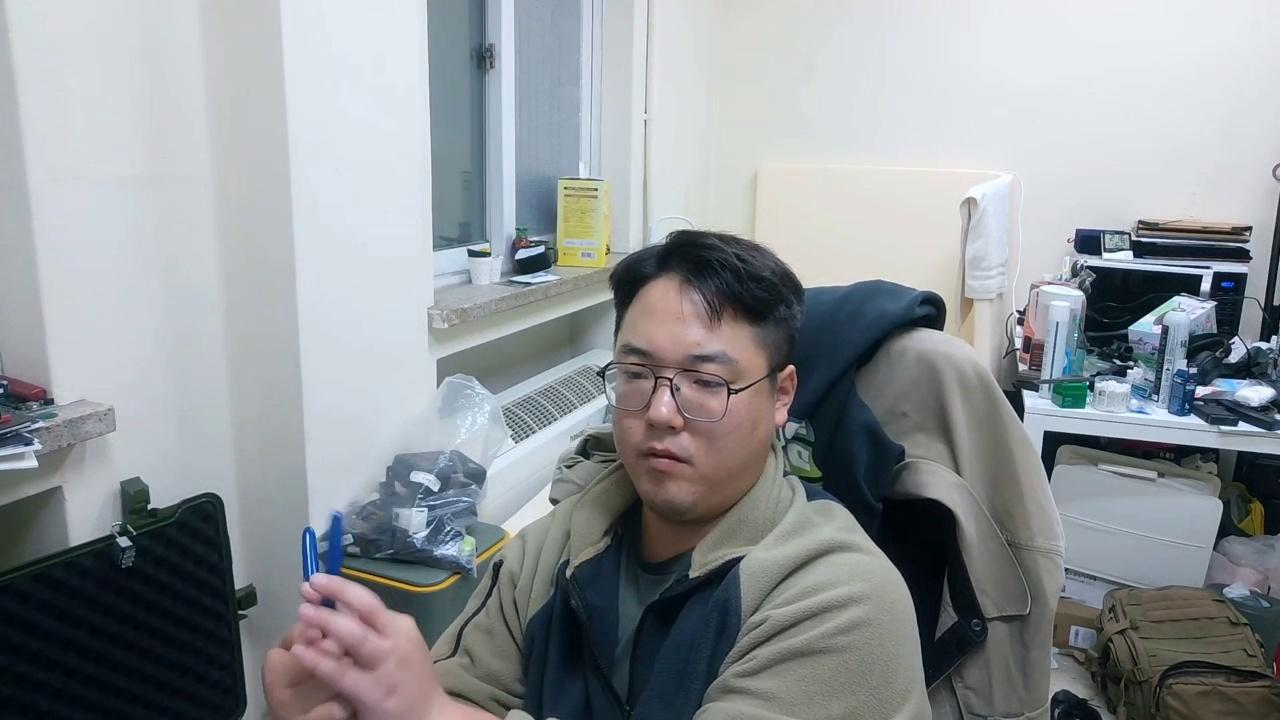blue_pliers: (300, 509, 350, 611)
